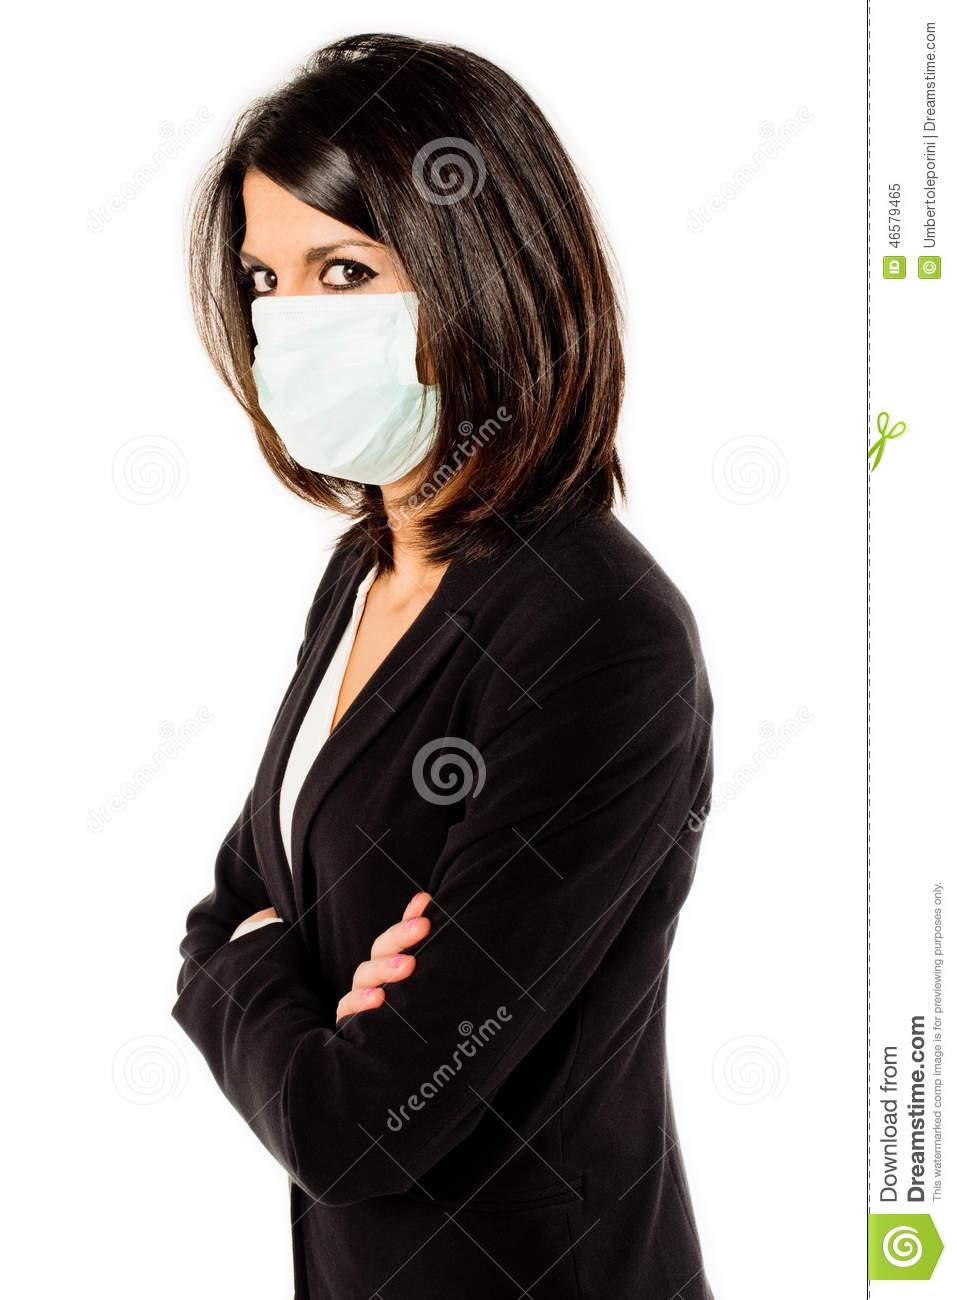mask: (248, 287, 450, 488)
